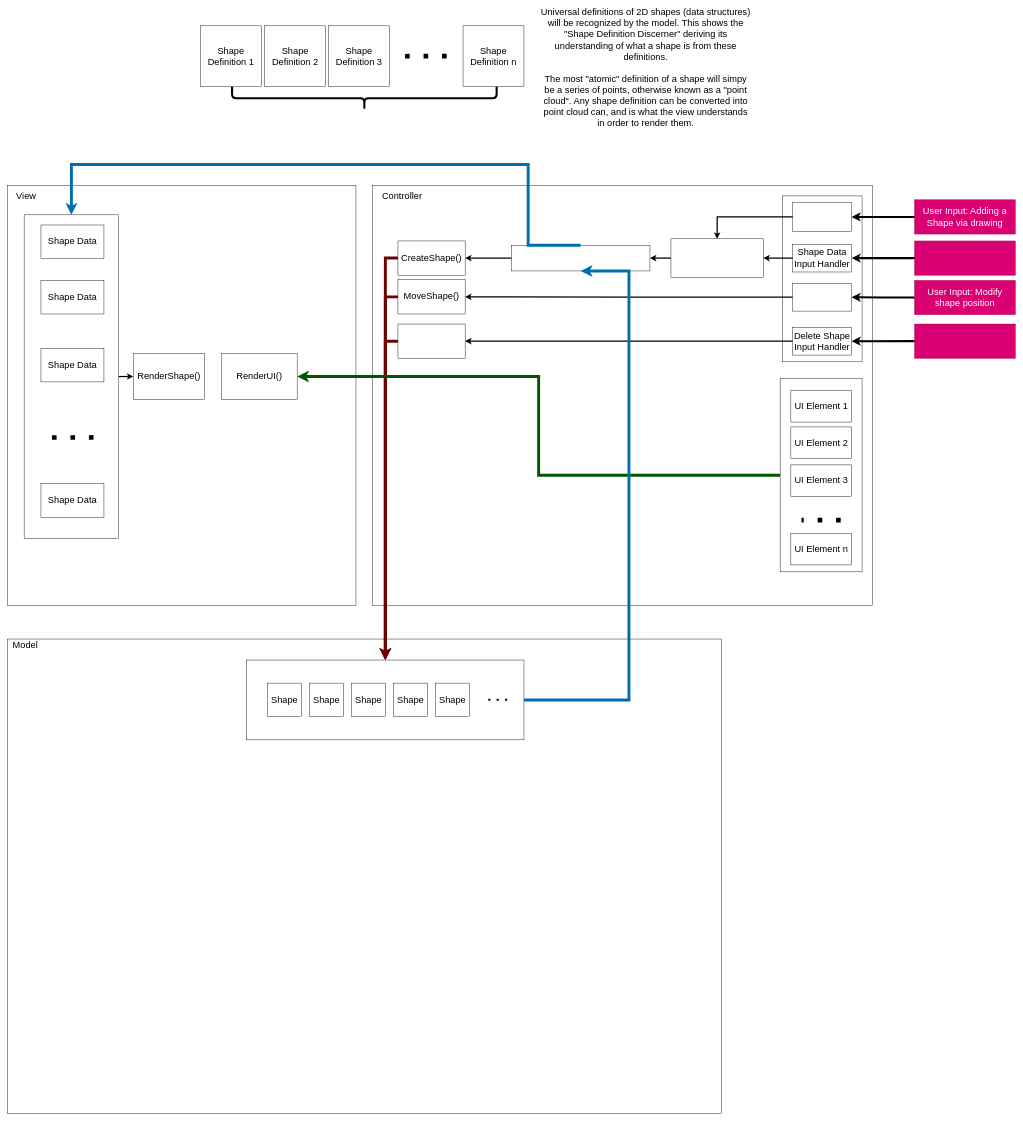
Image size: 1023x1121. Some labels were removed from this diagram. Here are the shapes that lost their labels. From the top down, the centre of each, then its label:
At pixel 822 217: "Add Shape Input Handler".
At pixel 580 258: "Shape Definition Discerner".
At pixel 717 257: "Shape Data Parser".
At pixel 964 258: "User Input: Adding a Shape via shape data".
At pixel 822 297: "Modify Shape Input Handler".
At pixel 431 341: "DeleteShape()".
At pixel 964 341: "User Input: Delete Shape".
